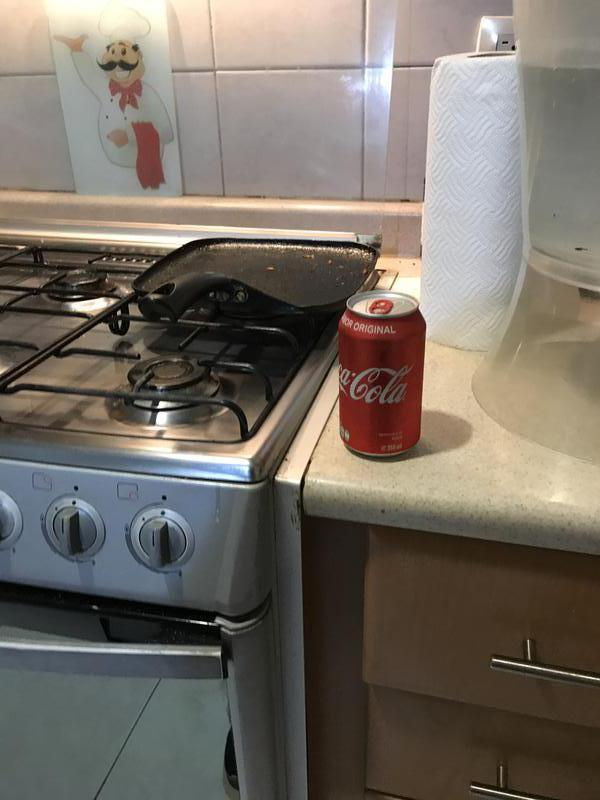coca_cola: (337, 293, 421, 457)
